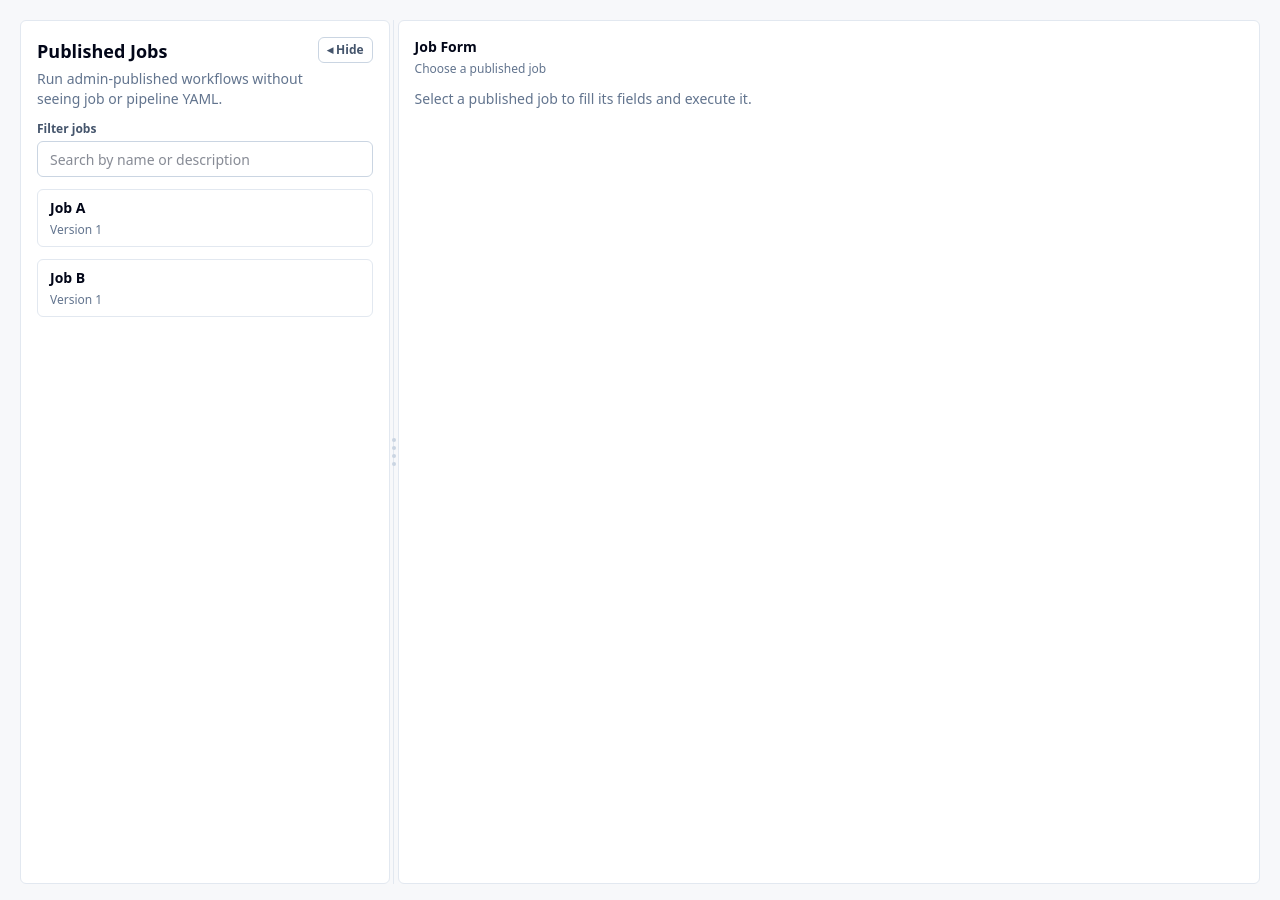
Test: PublishedJobsPage › clears a prior error when another job is selected
Click the button "Job A Version 1": (68,208) [37,189,373,247]
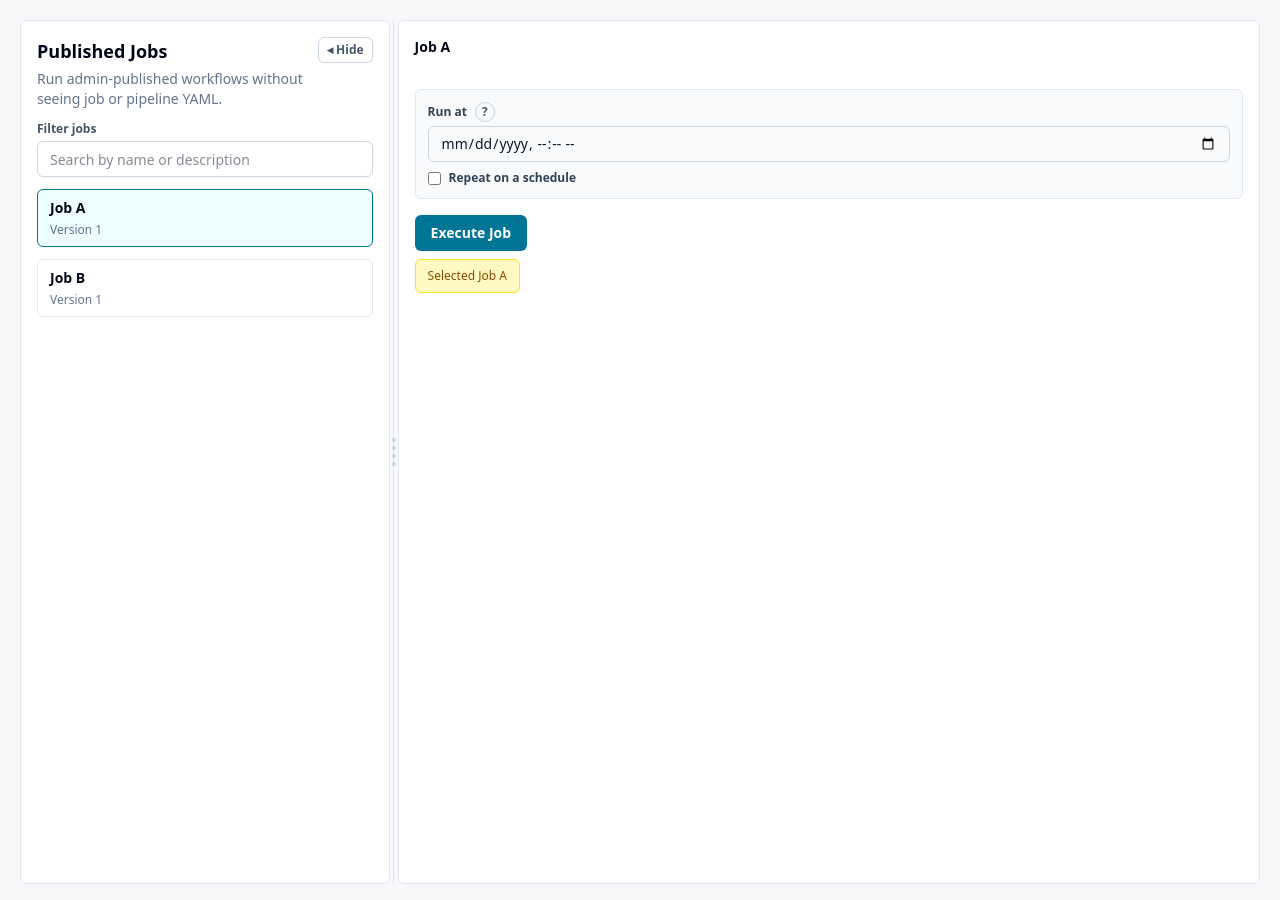
Now the text "Selected Job A" is shown, box [415,259,520,293]
Click the button "Execute Job": (471,233) [415,215,527,251]
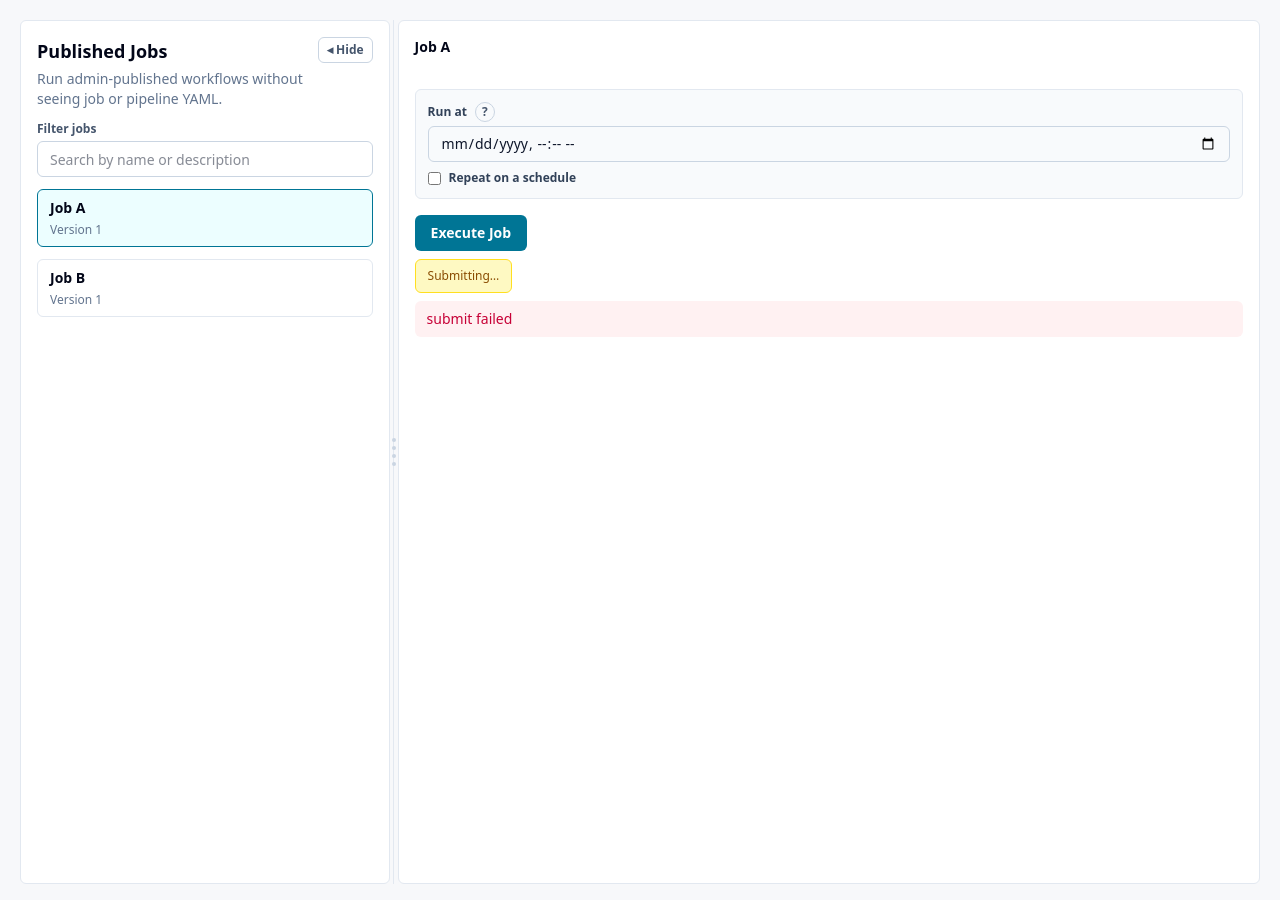
Now the text "submit failed" is shown, box [415,301,1243,337]
Switching jobs must not carry the previous job's error over.
Click the button "Job B Version 1": (68,278) [37,259,373,317]
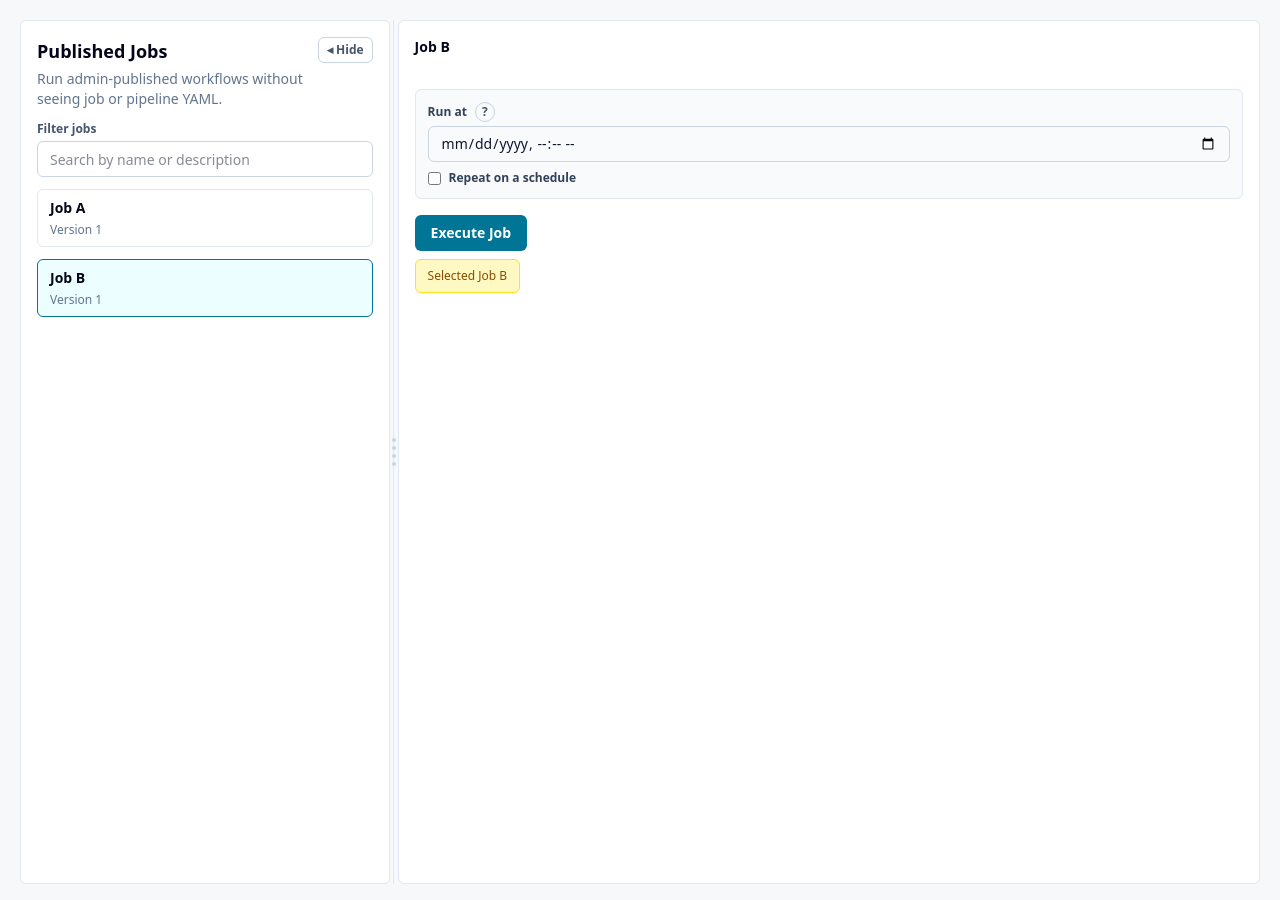
Now the text "submit failed" is gone
